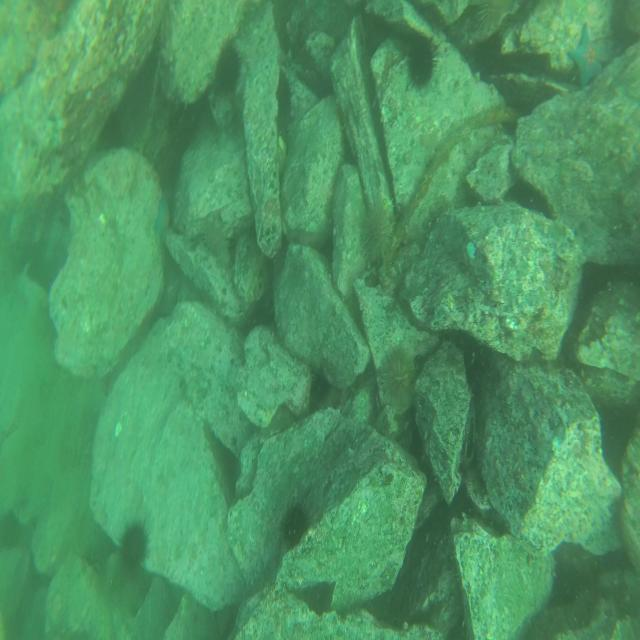echinus: (380, 346, 416, 416), (362, 202, 392, 260), (214, 46, 242, 96), (408, 38, 434, 88), (120, 522, 147, 570), (282, 507, 308, 547)
starfish: (568, 24, 608, 86), (155, 194, 171, 252)
